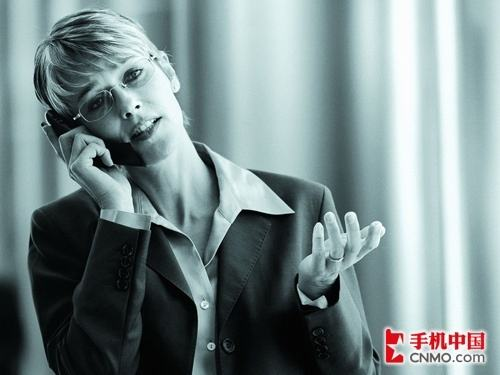calling: (37, 107, 148, 198)
